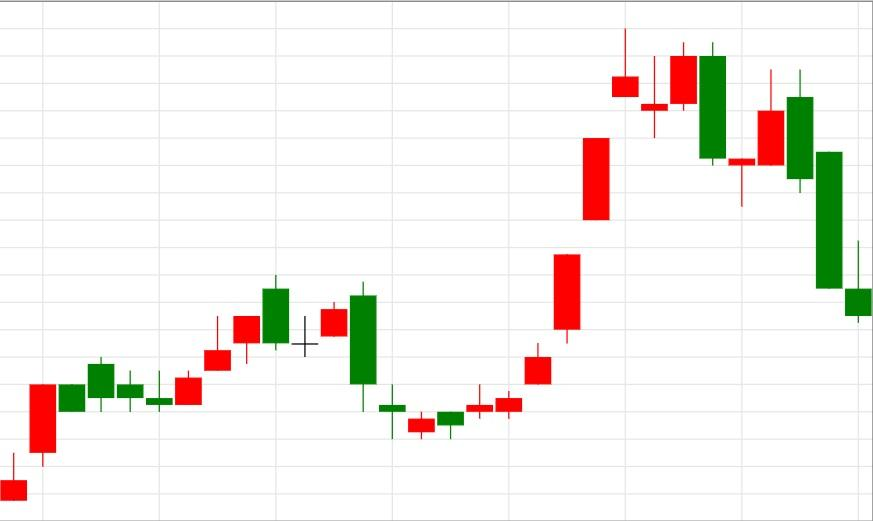bearish_engulfing_fall: (407, 29, 726, 440)
three_white_soldiers_rise: (349, 253, 580, 441), (87, 315, 261, 412)
